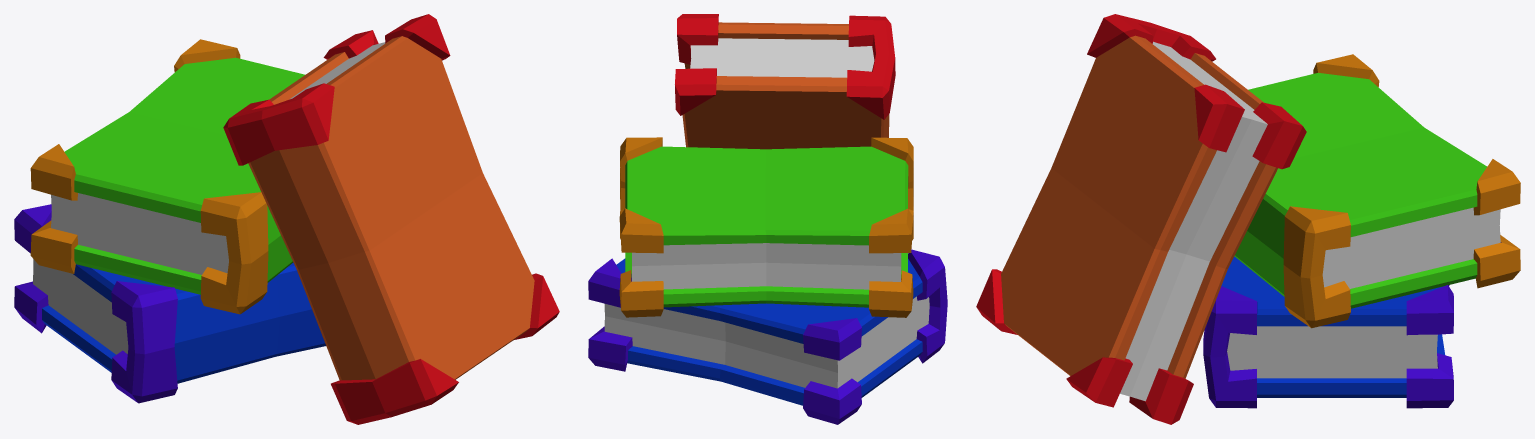
The model's file is pileOfBooks.obj.
3 renders of one model, left to right at view 1: azimuth 30°, elevation 25°; view 2: azimuth 150°, elevation 25°; view 3: azimuth 270°, elevation 25°, orthographic. The views are drawn at different scales.
Visible parts, largest first — view 1: Book_Pile; view 2: Book_Pile; view 3: Book_Pile.
Boxes of the visible parts, bbox=[...] form: Book_Pile: bbox=[14, 14, 559, 424]; Book_Pile: bbox=[588, 14, 947, 424]; Book_Pile: bbox=[976, 14, 1520, 424].
Size of the model in its own units: 1.29 by 0.9855 by 1.55.
